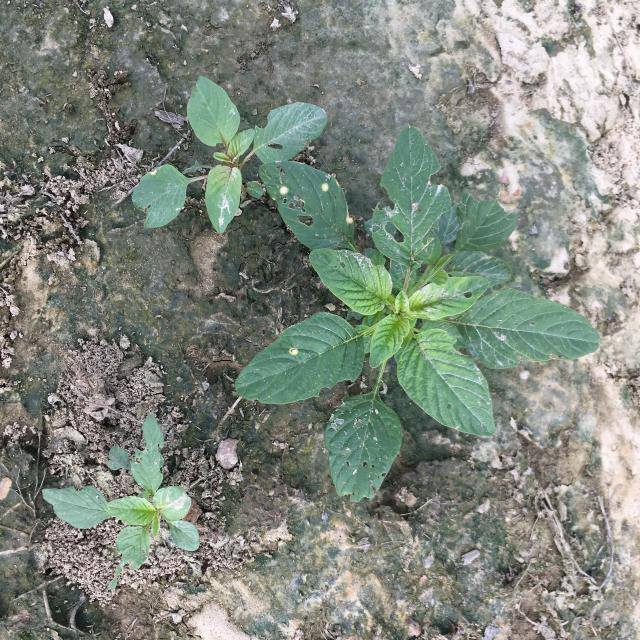PalmerAmaranth: (235, 125, 601, 503), (131, 76, 328, 234), (42, 412, 199, 590)
